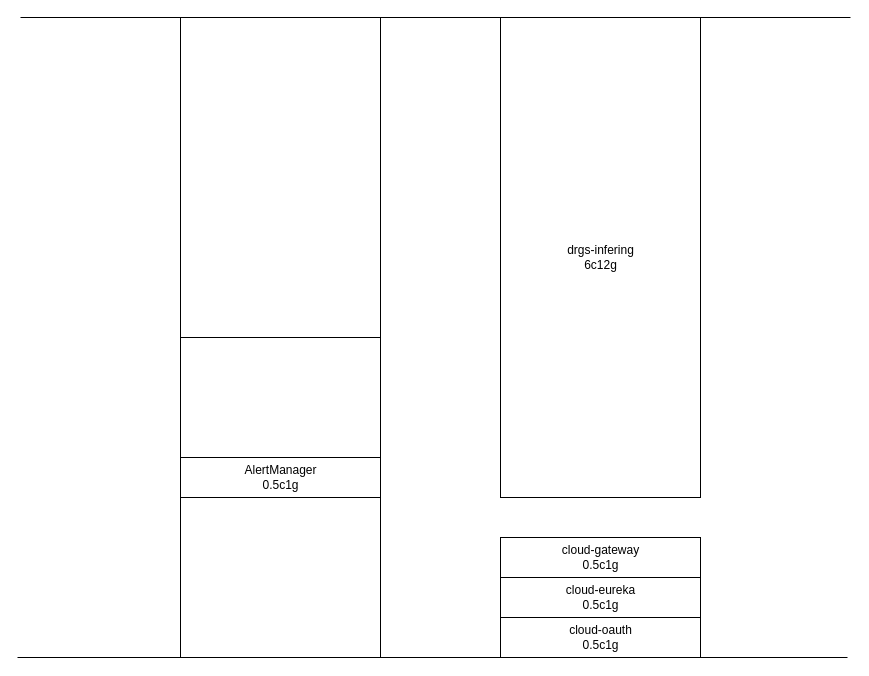
The diagram is 869 pixels wide and 676 high, and some of its shapes have lost their labels. Here are the shapes that lost their labels. From the top down, the centre of each, then its label:
At (x=280, y=177): "蚂蚁医院端 4c8g".
At (x=280, y=397): "Prometheus 1.5c3g".
At (x=280, y=577): "model-manager 2c4g".
